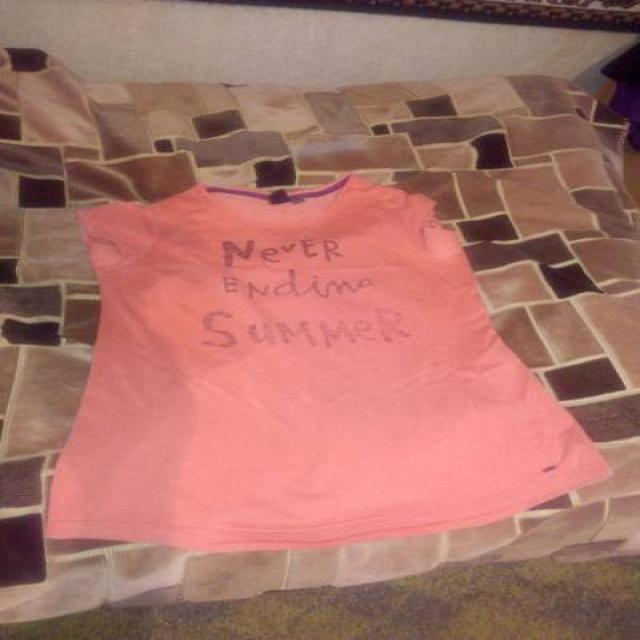Clothes -Biodegradable-: (46, 179, 609, 546)
